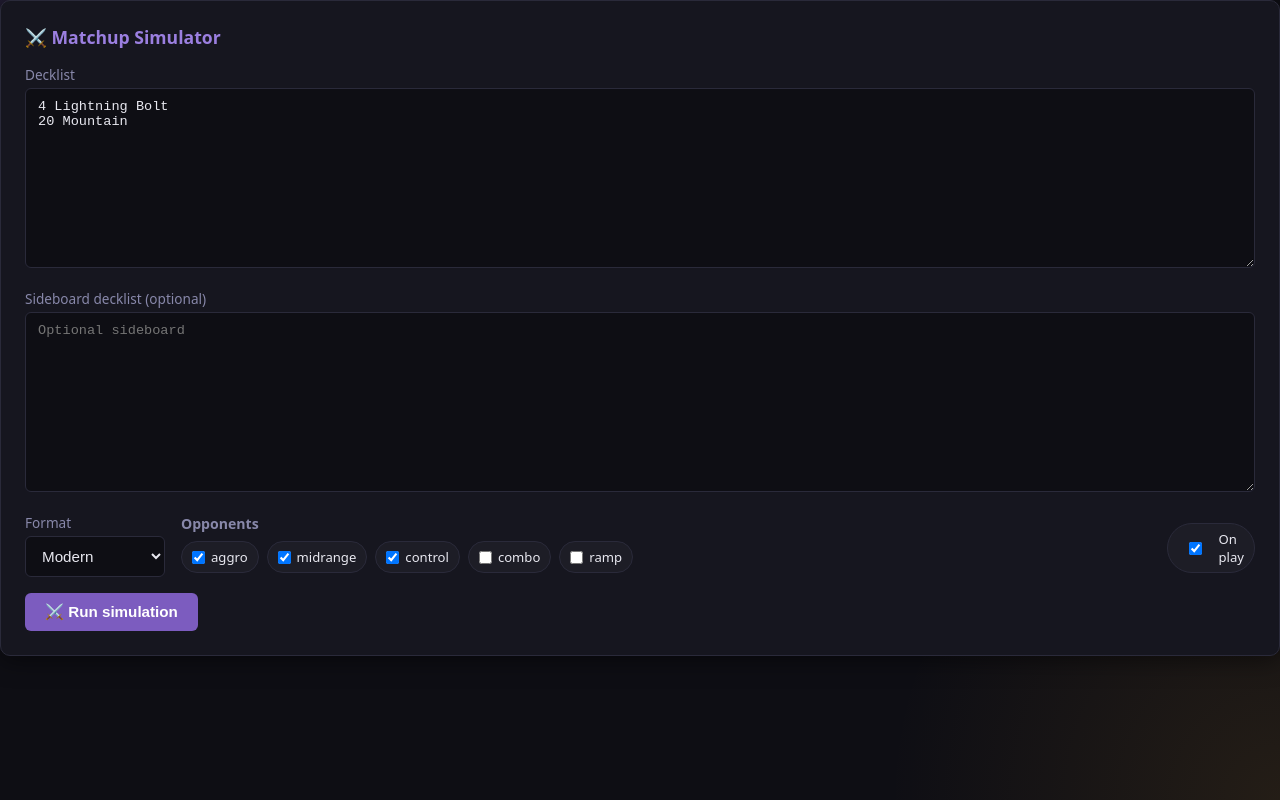
Test case: MatchupSimulator › submits simulation payload and renders backend error
What coordinates should you click on to do the following:
click the button "⚔️ Run simulation"
I would click on:
 (111, 612)
Its box is [25,593,198,631].
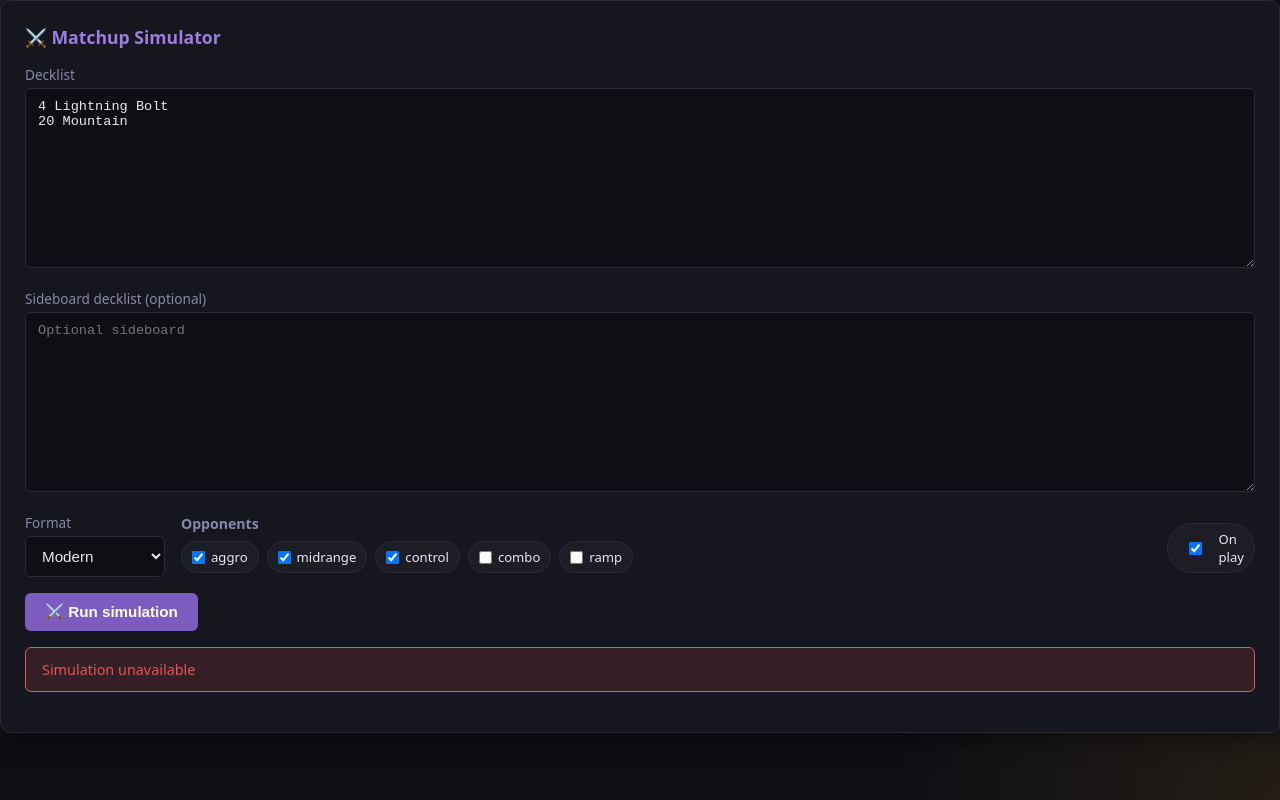
Now the text "Simulation unavailable" is shown, box [25,647,1255,692]
